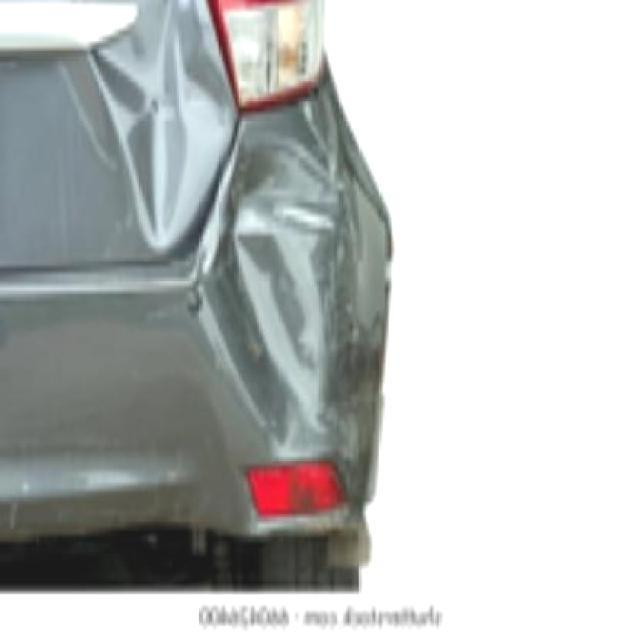minor: (203, 95, 345, 460)
moderate: (63, 0, 237, 258)
